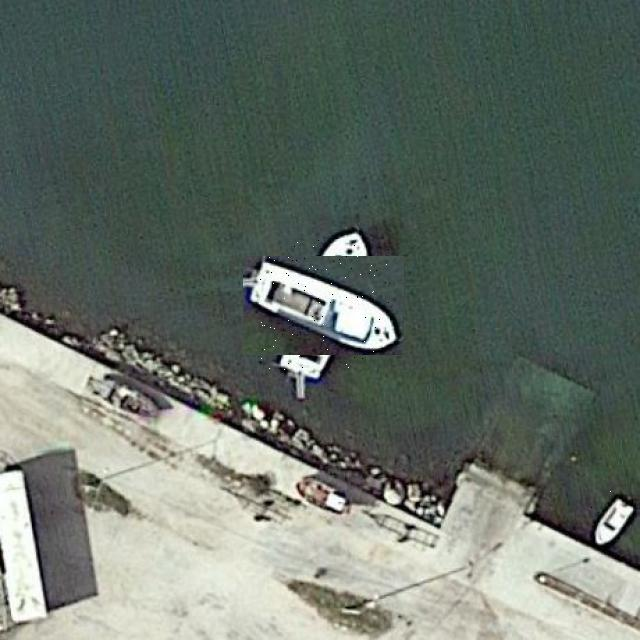boat: (258, 240, 389, 371), (590, 488, 634, 548)
